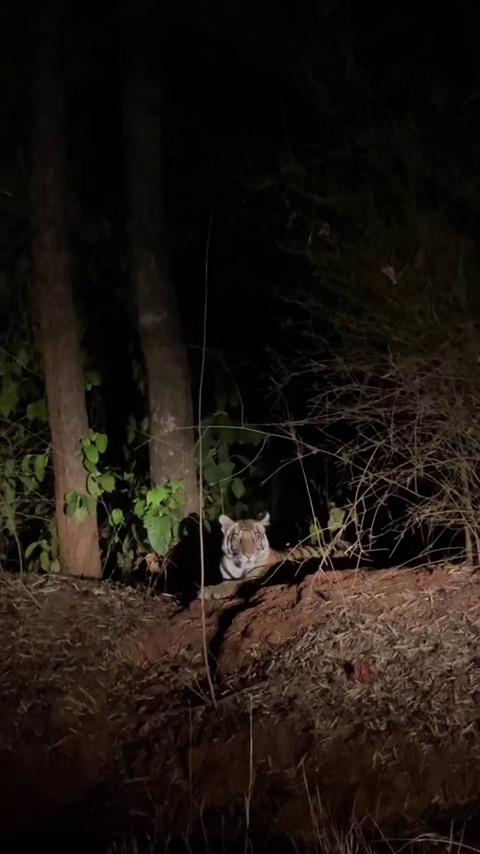Tiger: (196, 512, 348, 600)
